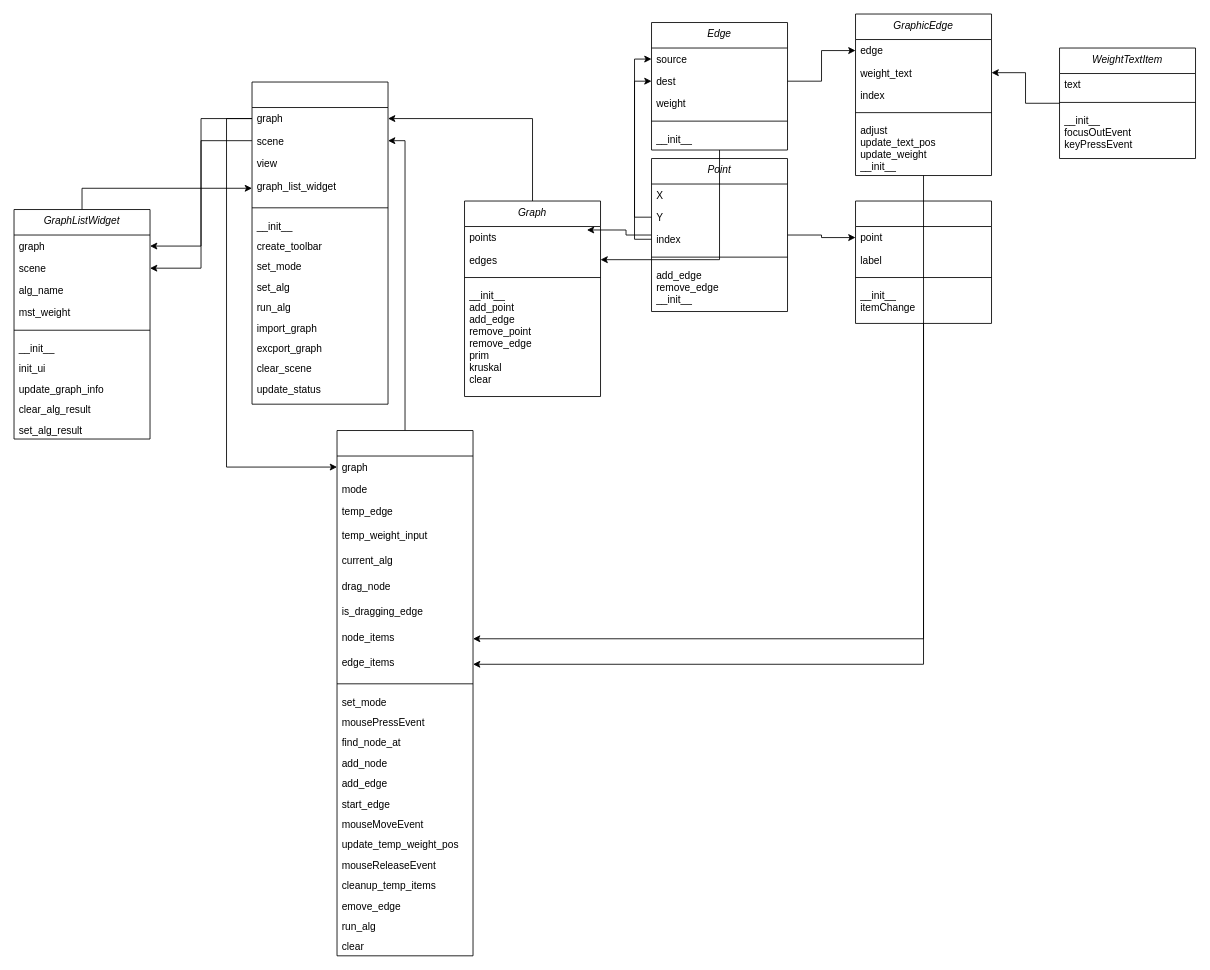
This 1210x970 diagram has some shape labels left out. The box of each missing label's shape, as (x1, y1, x2, y2) in pixels:
GraphicsScene: (336, 430, 473, 956)
MainWindow: (251, 81, 388, 404)
Node: (855, 200, 992, 323)
